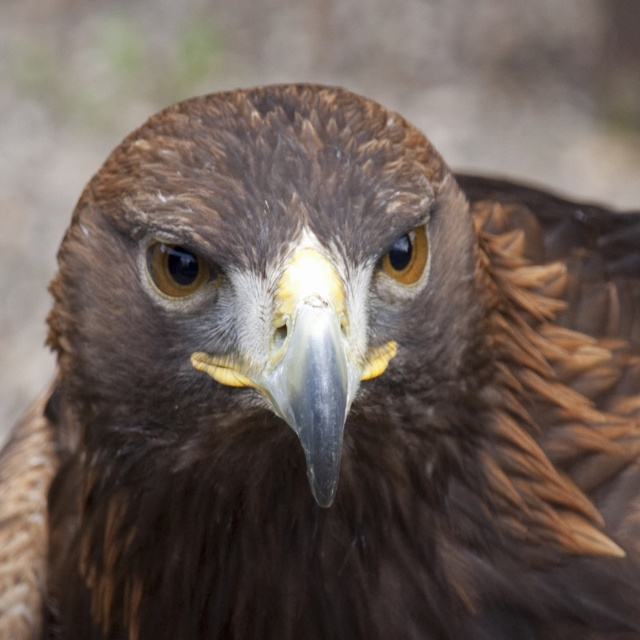Eagle: (0, 82, 640, 640)
